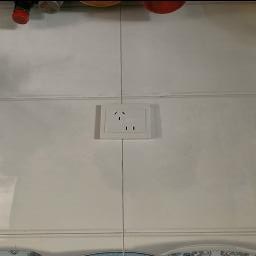outlet: (90, 100, 152, 144)
